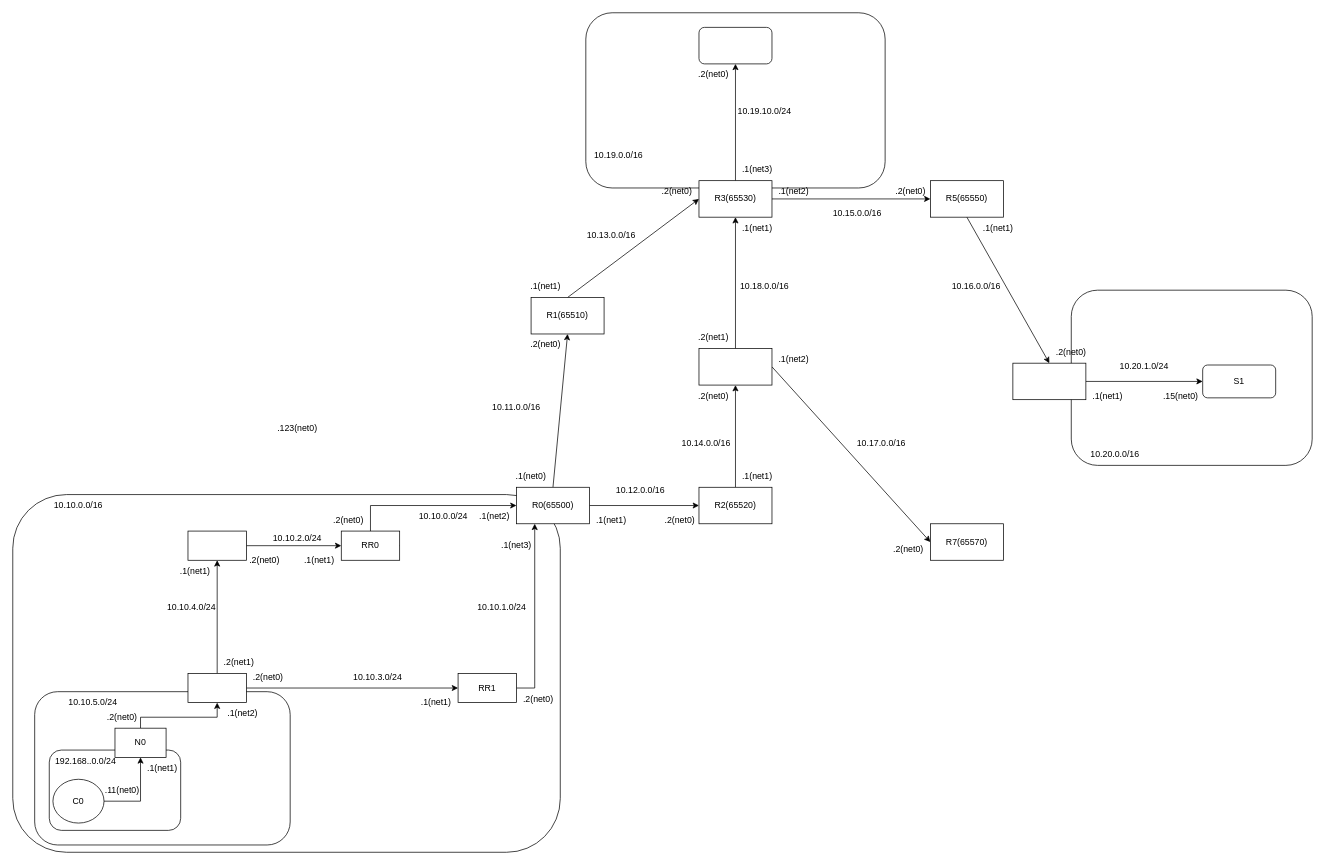
Some shapes in this 1325 by 865 pixel diagram are drawn without their labels. Here are the shapes that lost their labels. From the top down, the centre of each, then its label:
At (735,45): "S0".
At (735,366): "R4(65540)".
At (1049,381): "R6(65560)".
At (216,545): "RR2".
At (216,688): "RR3".
